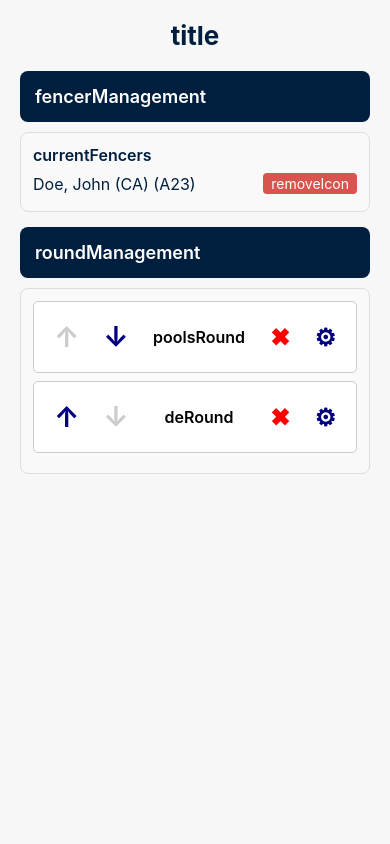
Test: EventSettings › toggles round configuration panel
// Open round management
Click the text "roundManagement" at (118, 252), box [35, 242, 200, 263]
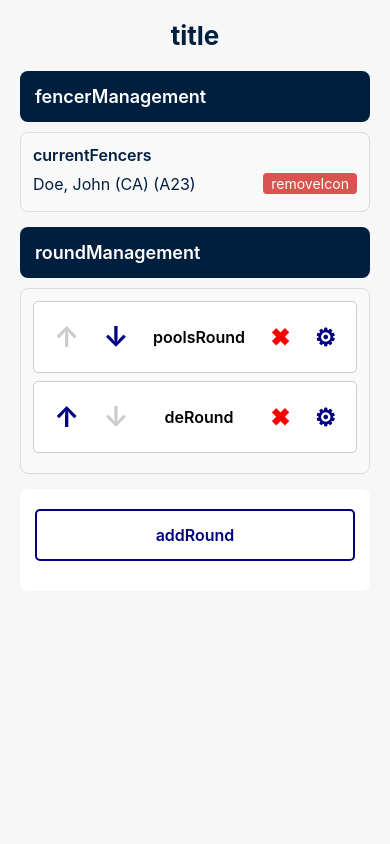
Check: the text "poolConfigurations" is not shown
// Open the config for the pool round
Click the text "⚙" next to "poolsRound" at (325, 337), box [314, 322, 336, 352]
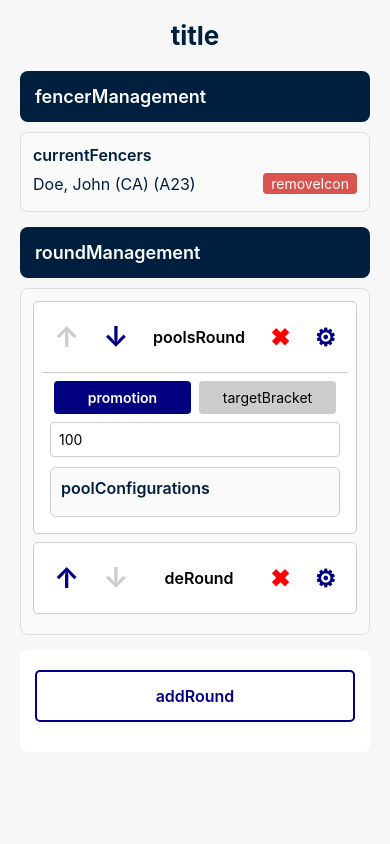
Check: the text "poolConfigurations" is shown, box [61, 478, 210, 498]
// Close the config panel by pressing the button again
Click the text "⚙" next to "poolsRound" at (325, 337), box [314, 322, 336, 352]
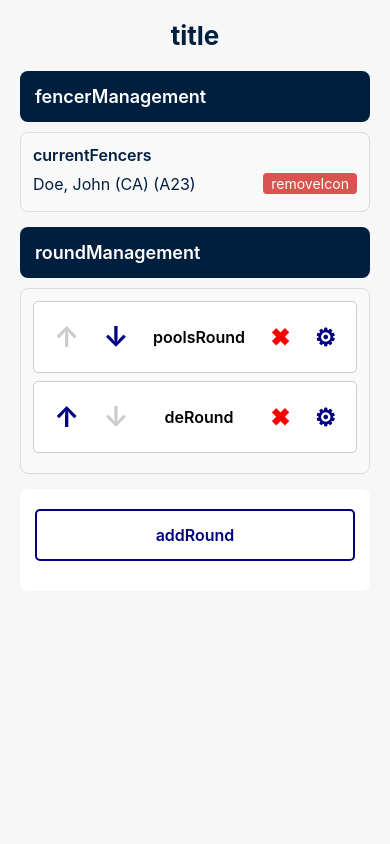
Check: the text "poolConfigurations" is gone
